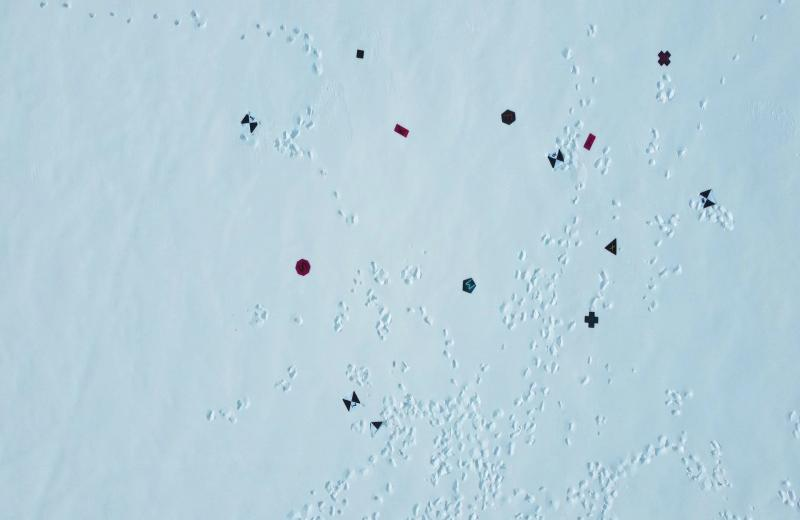Cross: (584, 310, 599, 330), (658, 48, 671, 66)
Hexagon: (500, 107, 516, 126)
Octagon: (295, 256, 312, 277)
Pentagon: (462, 276, 477, 295)
Rectangle: (582, 132, 596, 152), (394, 122, 411, 138)
Square: (355, 48, 365, 60)
Triangle: (605, 236, 620, 255)
